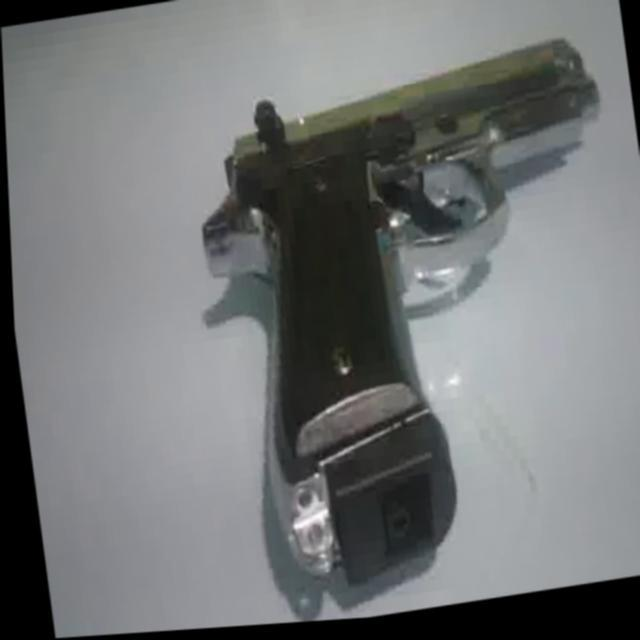weapon: (173, 36, 640, 598)
